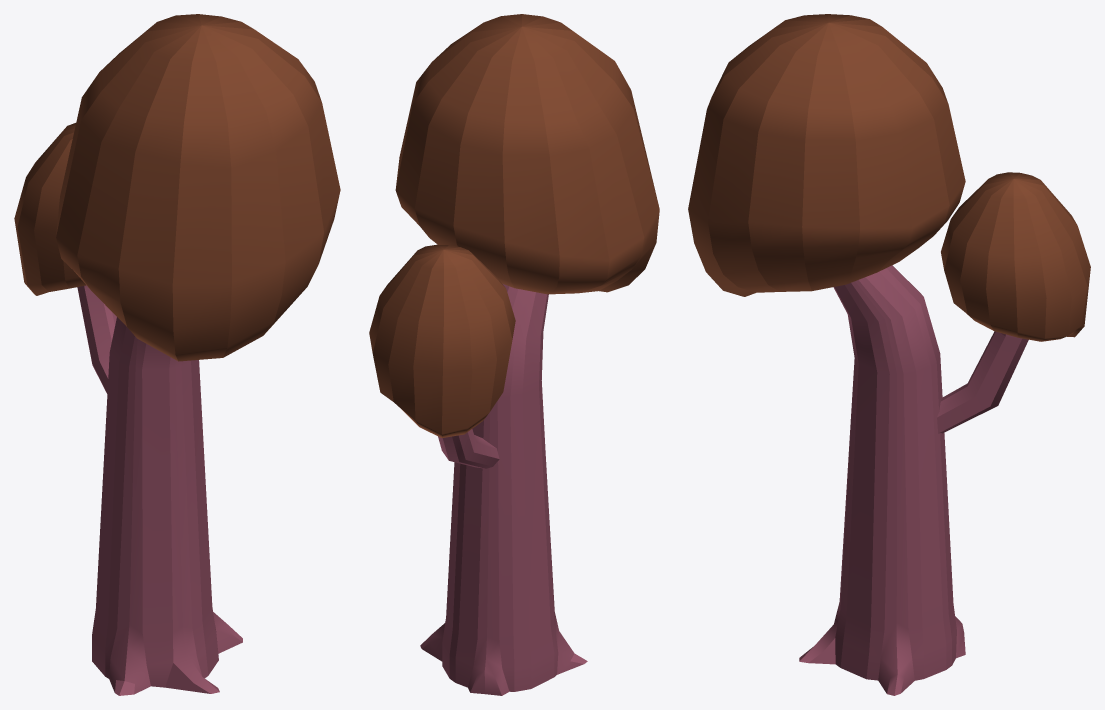
The model's file is DeflatedTreeLowPoly.fbx.
The picture shows the model from 3 angles, left to right: view 1: azimuth 30°, elevation 25°; view 2: azimuth 150°, elevation 25°; view 3: azimuth 270°, elevation 25°; orthographic projection. The views are drawn at different scales.
Parts seen in each view (by area): view 1: pSphere6; view 2: pSphere6; view 3: pSphere6.
Boxes of the visible parts, left/top/right/bottom form: pSphere6: left=14, top=14, right=340, bottom=695; pSphere6: left=369, top=14, right=659, bottom=695; pSphere6: left=688, top=14, right=1090, bottom=695.
Size of the model in its own units: 4.54 by 11.68 by 6.67.
